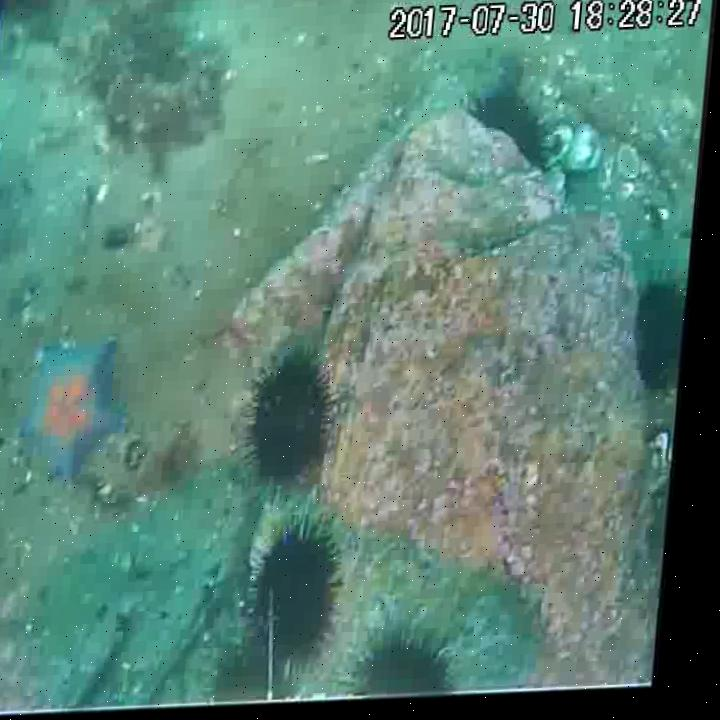echinus: (256, 517, 358, 663), (255, 351, 348, 486), (470, 88, 559, 185), (361, 632, 469, 706), (636, 282, 698, 410), (224, 642, 313, 710)
starfish: (18, 335, 142, 493)
